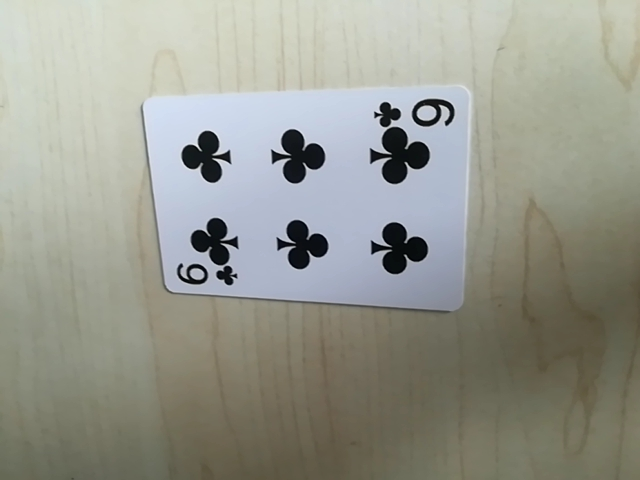mh 6: (373, 92, 458, 130), (170, 262, 237, 291)
